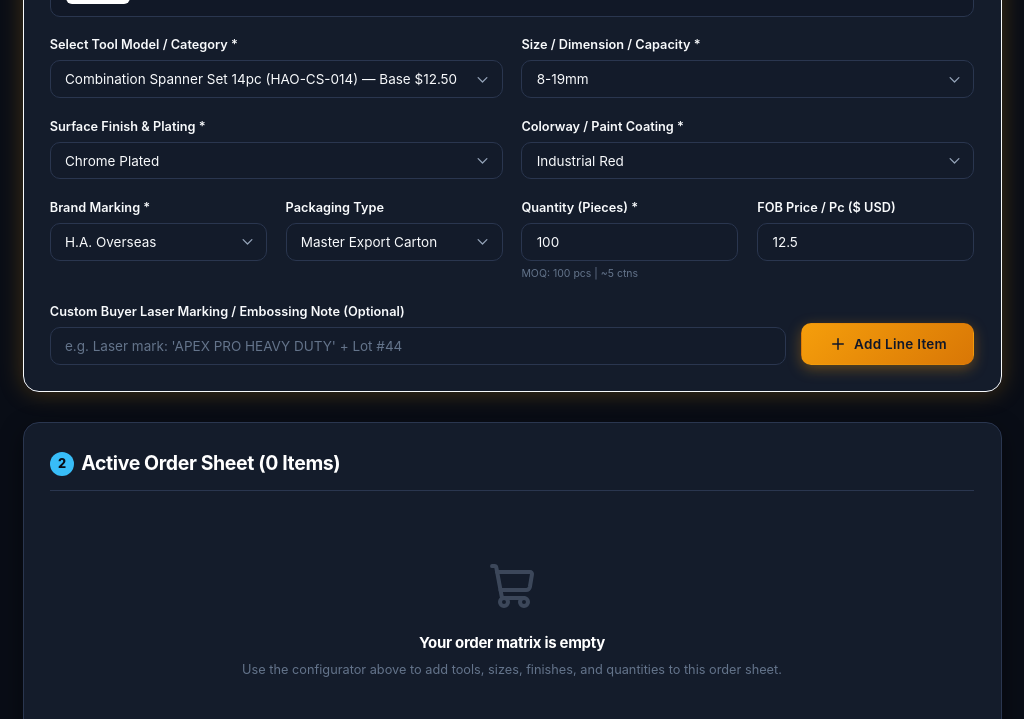
Test: OrderCreatorPage pricing display › renders the fixture product price and, after adding a line, its line + grand totals
This screenshot has width=1024, height=719.
(page scrolled)
Expected: the number field below "Quantity (Pieces) *" holds "100", [521,223,738,261]
Expected: the number field below "FOB Price / Pc ($ USD)" holds "12.5", [757,223,974,261]
Click the button "Add Line Item" at (888, 344), box [801,322,974,364]
(page scrolled)
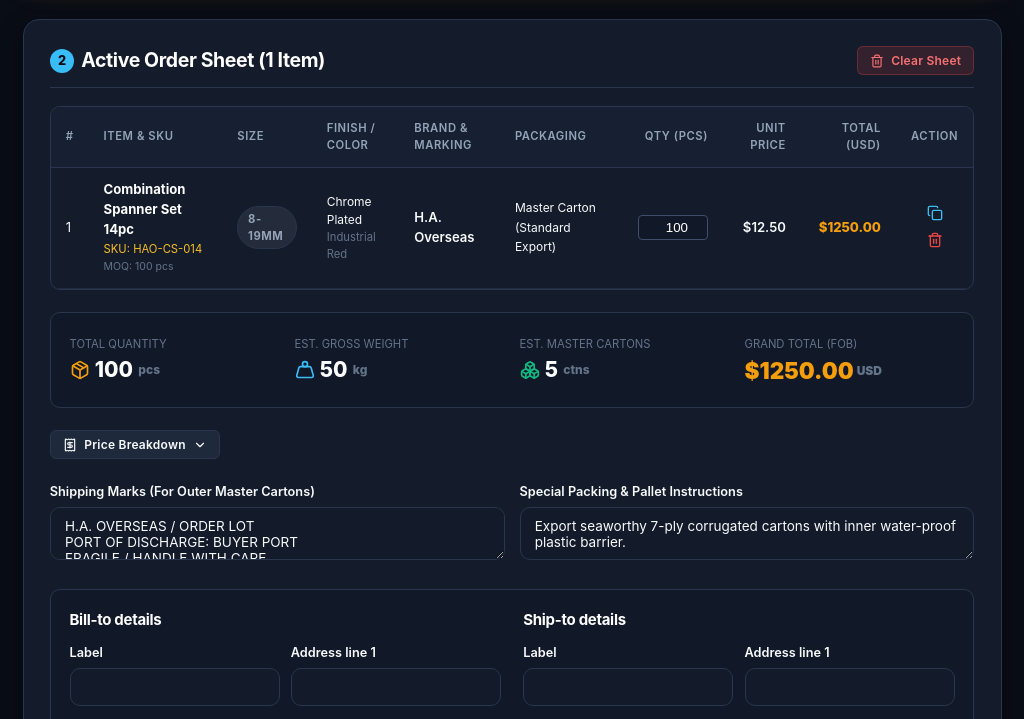
Expected: the text "$12.50" is shown, [723,167,801,288]
Expected: the text "Grand Total (FOB)" is shown, [744,337,857,351]
